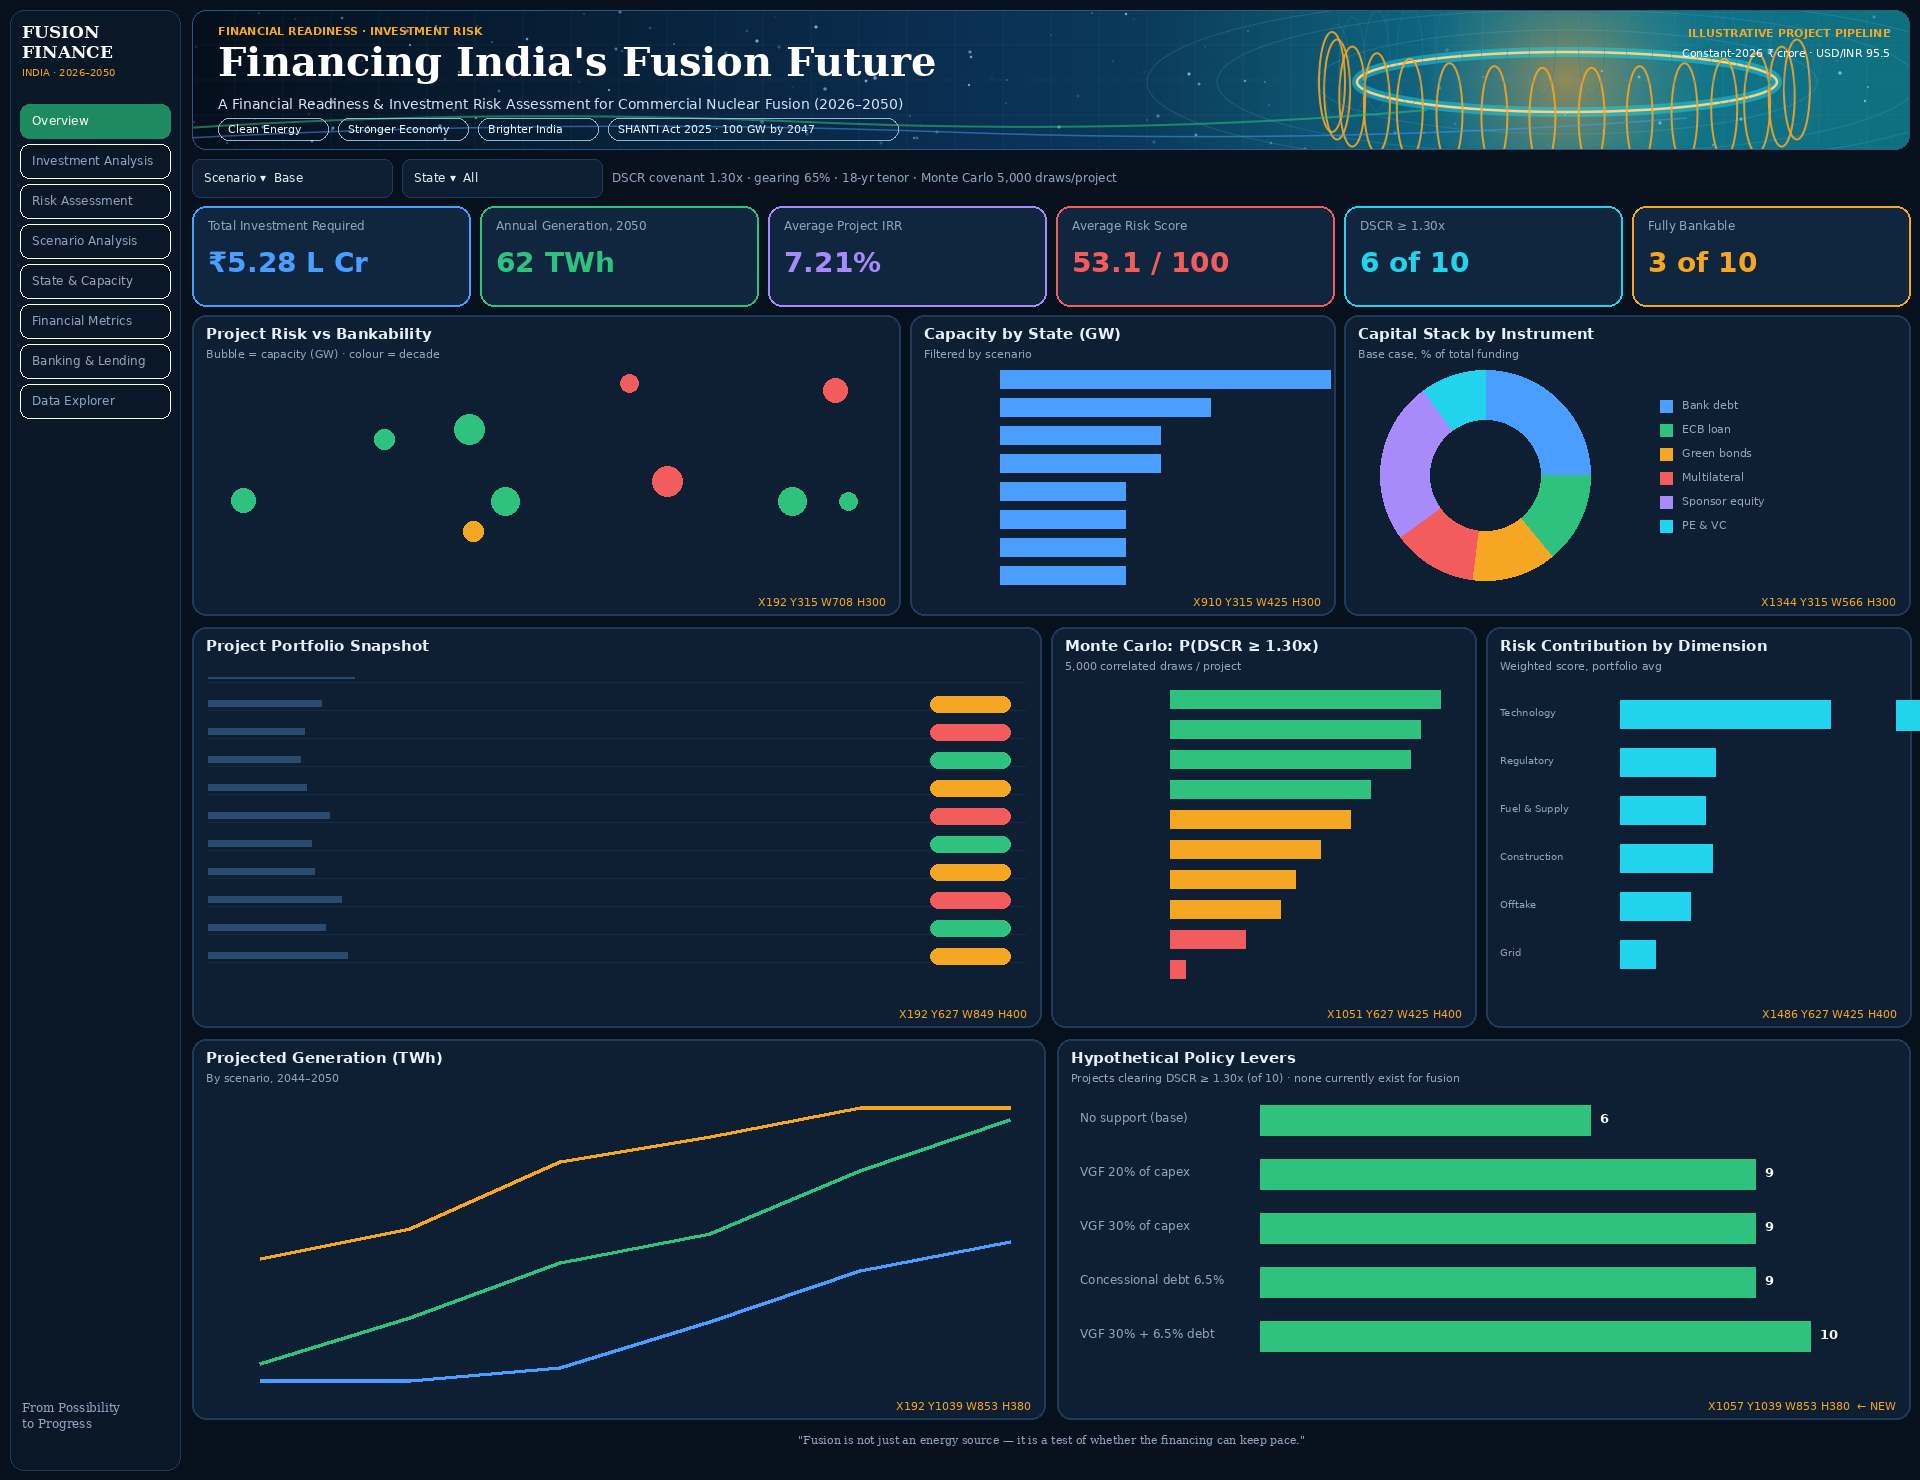

Layout of this report page (visuals, bound fields, positions):
{"tool":"powerbi","page":{"name":"Page 1","canvas":[1920,1480],"ordinal":0},"visuals":[{"type":"textbox","box":[205.8,49.6,990.6,66.4],"z":0},{"type":"slicer","fields":{"Values":["fact_projects.scenario"]},"box":[200,167.5,230,60],"z":1000},{"type":"slicer","fields":{"Values":["dim_state.state"]},"box":[470,167.5,230,60],"z":2000},{"type":"cardVisual","fields":{"Data":["fact_projects.KPI Investment"]},"box":[200,250,262.5,82.5],"z":3000},{"type":"cardVisual","fields":{"Data":["fact_projects.KPI Generation"]},"box":[497.5,250,265,82.5],"z":4000},{"type":"cardVisual","fields":{"Data":["fact_projects.KPI IRR"]},"box":[797.5,250,242.5,82.5],"z":5000},{"type":"cardVisual","fields":{"Data":["fact_projects.KPI Risk"]},"box":[1072.5,250,287.5,82.5],"z":6000},{"type":"cardVisual","fields":{"Data":["fact_projects.KPI DSCR"]},"box":[1396.7,246.7,230,83.3],"z":7000},{"type":"cardVisual","fields":{"Data":["fact_projects.KPI Bankable"]},"box":[1657.5,250,252.5,80],"z":8000},{"type":"scatterChart","title":"Project Risk vs. Bankability","fields":{"Category":["fact_projects.project"],"Series":["fact_projects.cod_decade"],"Size":["Sum(fact_projects.capacity_gw)"],"X":["Avg(fact_projects.risk_score)"],"Y":["Avg(fact_projects.bankability_score)"]},"box":[187.5,355,750,362.5],"z":9000},{"type":"clusteredBarChart","title":"Planned Fusion Capacity by State","fields":{"Category":["fact_projects.state"],"Y":["Sum(fact_projects.capacity_gw)"]},"box":[950,357.5,457.5,365],"z":10000},{"type":"donutChart","title":"Project Financing Mix","fields":{"Category":["fact_capital_stack.instrument"],"Y":["Sum(fact_capital_stack.share_pct)"]},"box":[1427.5,357.5,492.5,365],"z":11000},{"type":"tableEx","fields":{"Values":["fact_projects.project","fact_projects.state","fact_projects.cod_year","fact_projects.capacity_gw","fact_projects.total_capex_inr_cr","fact_projects.risk_score","fact_projects.bankability_score","fact_projects.project_irr_pct","fact_projects.min_dscr","fact_projects.prob_dscr_ok_pct","fact_projects.status"]},"box":[188.5,731.6,1111,379.4],"z":12000},{"type":"clusteredBarChart","title":"Debt-Service Coverage by Project","fields":{"Category":["fact_projects.project"],"Y":["Max(fact_projects.prob_dscr_ok_pct)"]},"box":[702.1,1118.3,579.6,360],"z":13000},{"type":"clusteredBarChart","title":"Key Drivers of Portfolio Risk","fields":{"Category":["dim_risk.dimension"],"Y":["fact_projects.Risk Contribution"]},"box":[1319.3,731.6,590.2,379.4],"z":14000},{"type":"lineChart","title":"Projected Electricity Generation","fields":{"Category":["fact_generation.year"],"Series":["fact_generation.scenario"],"Y":["fact_projects.Gen TWh by Scenario"]},"box":[178.7,1118.3,503,362.6],"z":15000},{"type":"clusteredBarChart","title":"Policy Levers: Improving Bankability","fields":{"Category":["fact_policy_levers.lever"],"Y":["Sum(fact_policy_levers.projects_clearing_dscr)"]},"box":[1300,1117.5,620,360],"z":16000},{"type":"textbox","box":[257.9,104.7,970.2,40.9],"z":17000},{"type":"textbox","box":[12.5,82.5,187.5,37.5],"z":18000},{"type":"textbox","box":[5,120,172.5,25],"z":19000},{"type":"actionButton","box":[7.5,197.5,170,52.5],"z":20000},{"type":"actionButton","box":[5,702.5,177.5,77.5],"z":21000},{"type":"actionButton","box":[5,597.5,177.5,77.5],"z":22000},{"type":"actionButton","box":[7.5,815,175,75],"z":23000},{"type":"actionButton","box":[5,277.5,177.5,77.5],"z":24000},{"type":"actionButton","box":[7.5,380,175,82.5],"z":25000},{"type":"actionButton","box":[5,482.5,177.5,82.5],"z":26000},{"type":"textbox","box":[199.1,17.9,486.1,32.2],"z":27000},{"type":"textbox","box":[689.4,186,761.3,37.2],"z":28000},{"type":"textbox","box":[1592.1,14.9,300.1,34.7],"z":29000},{"type":"textbox","box":[1572.3,34.7,337.3,34.7],"z":29001}]}

Visuals, with their boxes in screenshot pixels (x1, y1, x2, y2), scaled from the page's 1920x1480 canvas onto the 1920x1480 screenshot:
textbox: (206, 50, 1196, 116)
slicer - fact_projects.scenario: (200, 168, 430, 228)
slicer - dim_state.state: (470, 168, 700, 228)
cardVisual - fact_projects.KPI Investment: (200, 250, 462, 332)
cardVisual - fact_projects.KPI Generation: (498, 250, 762, 332)
cardVisual - fact_projects.KPI IRR: (798, 250, 1040, 332)
cardVisual - fact_projects.KPI Risk: (1072, 250, 1360, 332)
cardVisual - fact_projects.KPI DSCR: (1397, 247, 1627, 330)
cardVisual - fact_projects.KPI Bankable: (1658, 250, 1910, 330)
"Project Risk vs. Bankability" scatterChart: (188, 355, 938, 718)
"Planned Fusion Capacity by State" clusteredBarChart: (950, 358, 1408, 722)
"Project Financing Mix" donutChart: (1428, 358, 1919, 722)
tableEx - fact_projects.project x fact_projects.state: (188, 732, 1300, 1111)
"Debt-Service Coverage by Project" clusteredBarChart: (702, 1118, 1282, 1478)
"Key Drivers of Portfolio Risk" clusteredBarChart: (1319, 732, 1910, 1111)
"Projected Electricity Generation" lineChart: (179, 1118, 682, 1479)
"Policy Levers: Improving Bankability" clusteredBarChart: (1300, 1118, 1919, 1478)
textbox: (258, 105, 1228, 146)
textbox: (12, 82, 200, 120)
textbox: (5, 120, 178, 145)
actionButton: (8, 198, 178, 250)
actionButton: (5, 702, 182, 780)
actionButton: (5, 598, 182, 675)
actionButton: (8, 815, 182, 890)
actionButton: (5, 278, 182, 355)
actionButton: (8, 380, 182, 462)
actionButton: (5, 482, 182, 565)
textbox: (199, 18, 685, 50)
textbox: (689, 186, 1451, 223)
textbox: (1592, 15, 1892, 50)
textbox: (1572, 35, 1910, 69)
